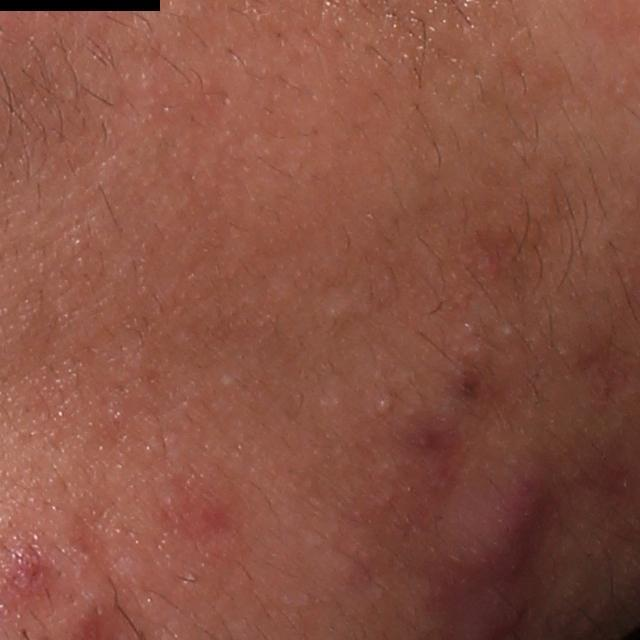comedo: (368, 394, 395, 421)
